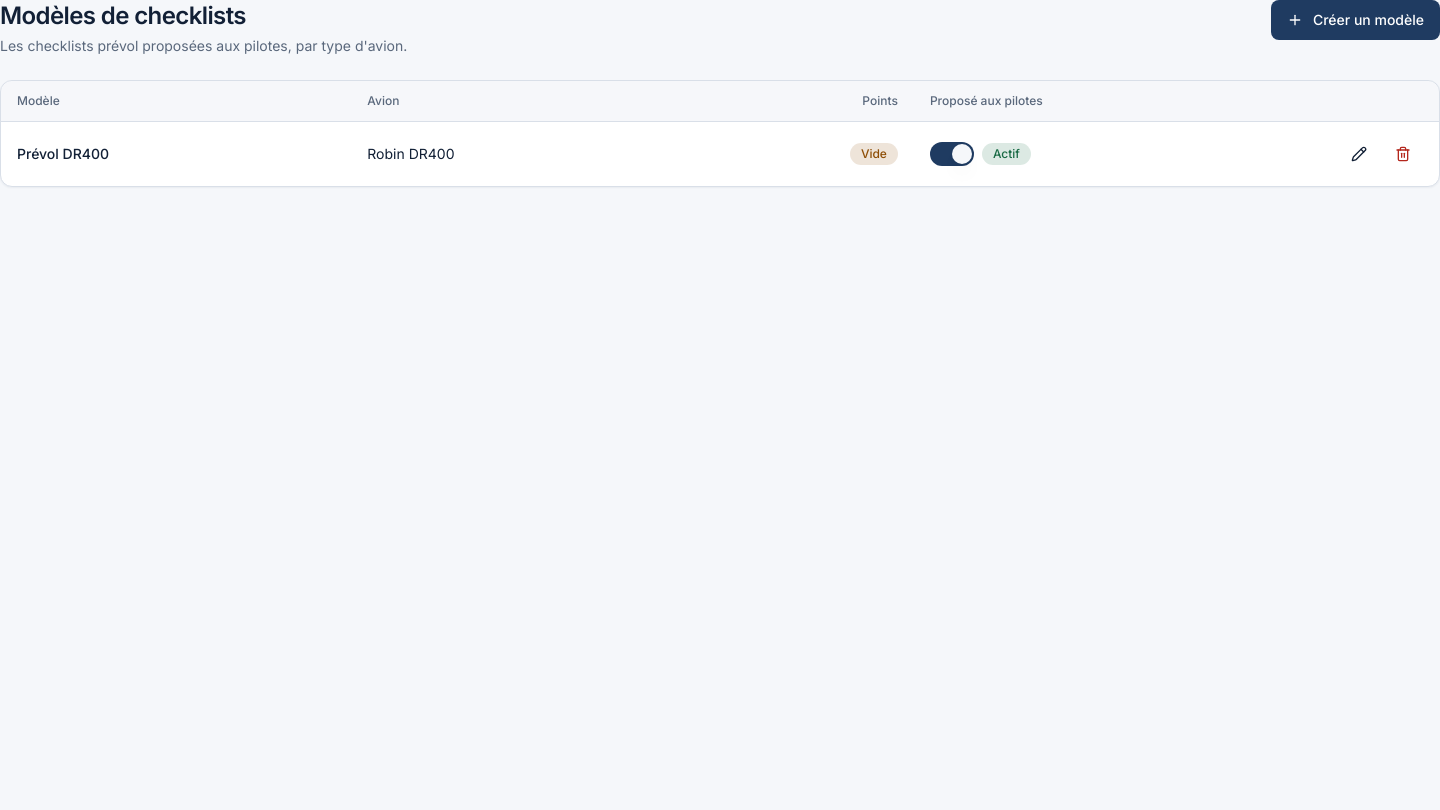
Scenario: AdminChecklistsPage — suppression d’un modèle › explique qu'un modèle déjà rempli par des pilotes a été désactivé au lieu d'être supprimé
Click the button named "Supprimer le modèle Prévol DR400". click: (1403, 154)
box: [1383,134,1423,174]
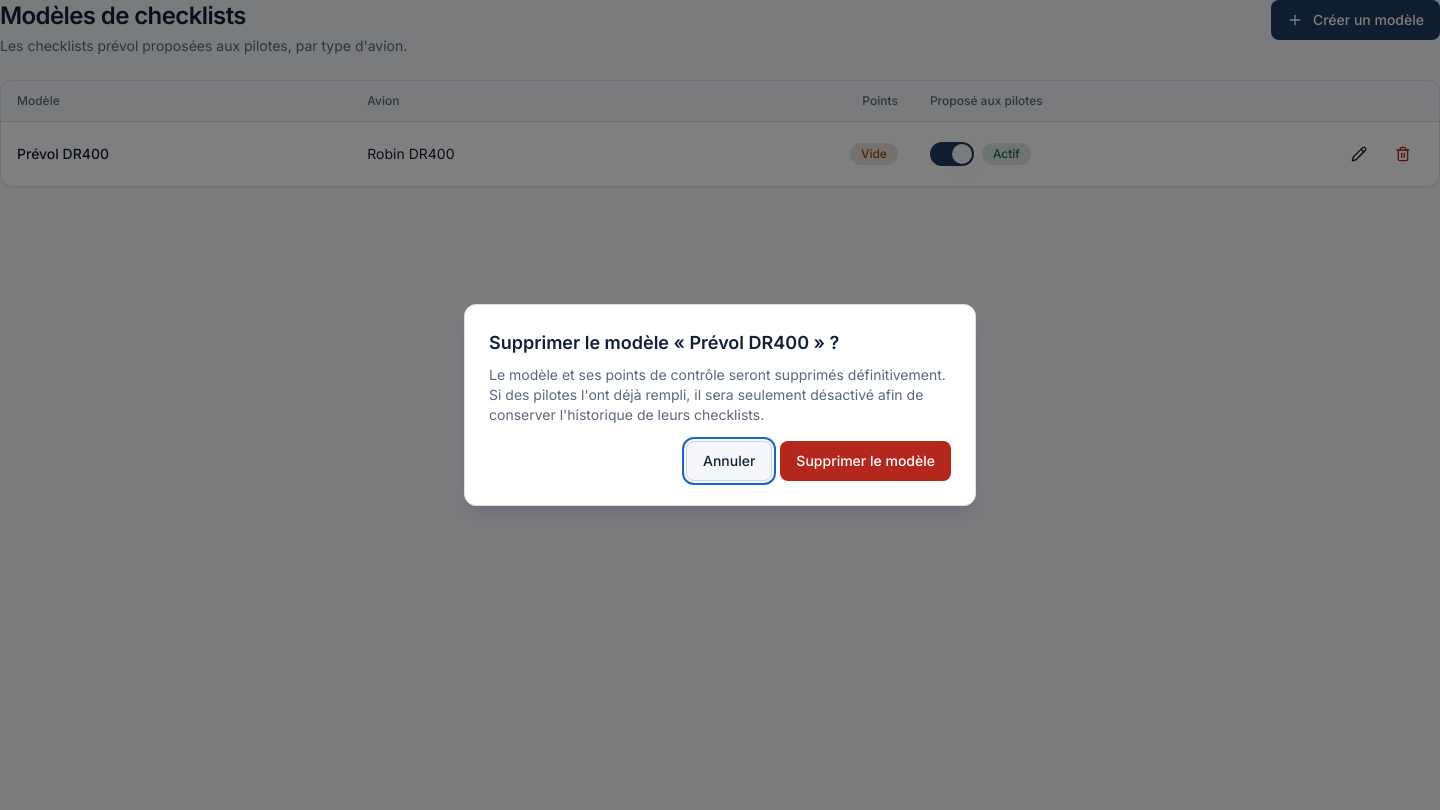
Click the button "Supprimer le modèle". click: (866, 461)
box: [780,441,951,481]
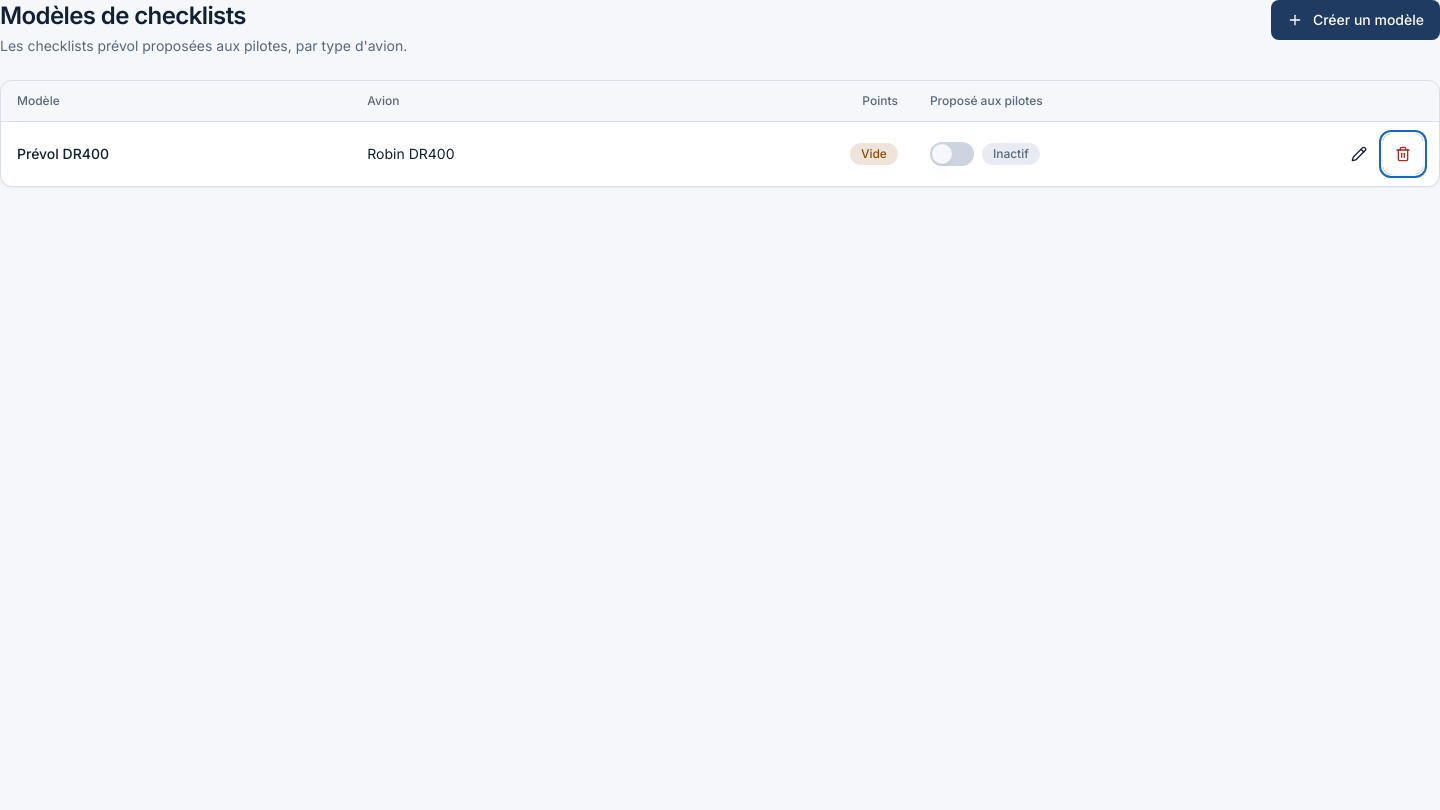
Check: the text "Prévol DR400" is shown, box [17,144,109,162]
Check: the text "Inactif" is shown, box [982,142,1040,164]
